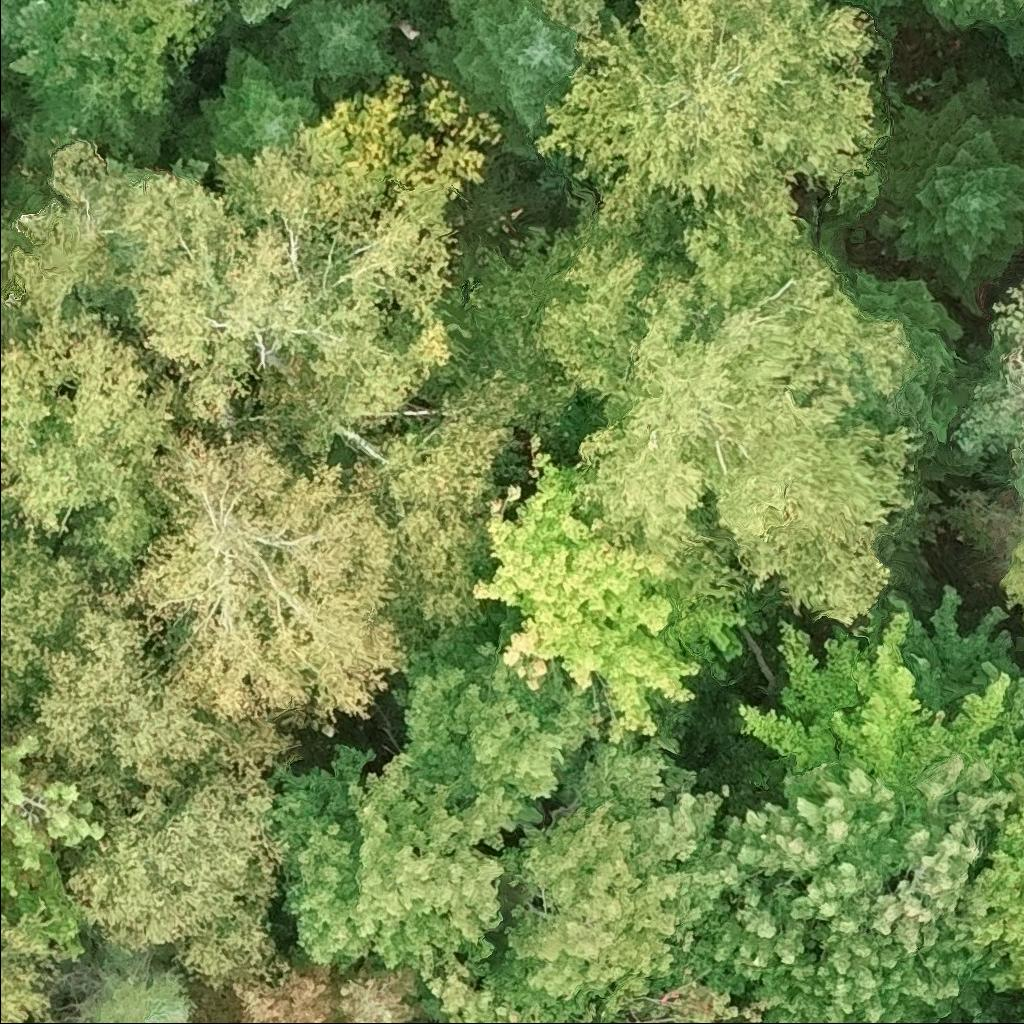crown: (530, 168, 933, 636), (83, 127, 462, 462), (94, 416, 421, 735), (671, 751, 1015, 1023), (532, 0, 890, 252), (469, 430, 748, 748), (732, 585, 1023, 787), (465, 800, 728, 1022), (8, 594, 301, 791), (347, 362, 541, 657), (68, 755, 291, 989), (0, 307, 182, 585), (348, 751, 545, 981), (871, 62, 1023, 319), (393, 635, 611, 807), (843, 265, 977, 460), (302, 67, 505, 193), (269, 744, 379, 975), (0, 132, 123, 337), (557, 734, 730, 872), (417, 0, 578, 145), (0, 537, 100, 741), (0, 732, 110, 908), (171, 43, 325, 165), (187, 956, 431, 1023), (248, 0, 406, 101), (967, 772, 1023, 1000), (417, 956, 597, 1023), (596, 970, 784, 1023), (0, 903, 69, 1023), (69, 968, 193, 1023), (923, 0, 1023, 56), (545, 0, 610, 37), (996, 531, 1023, 611), (226, 0, 292, 29)
